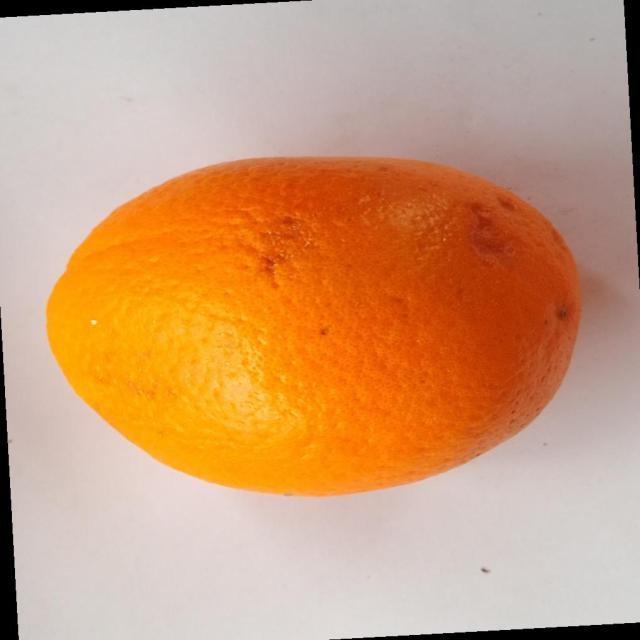agrume: (45, 154, 582, 498)
